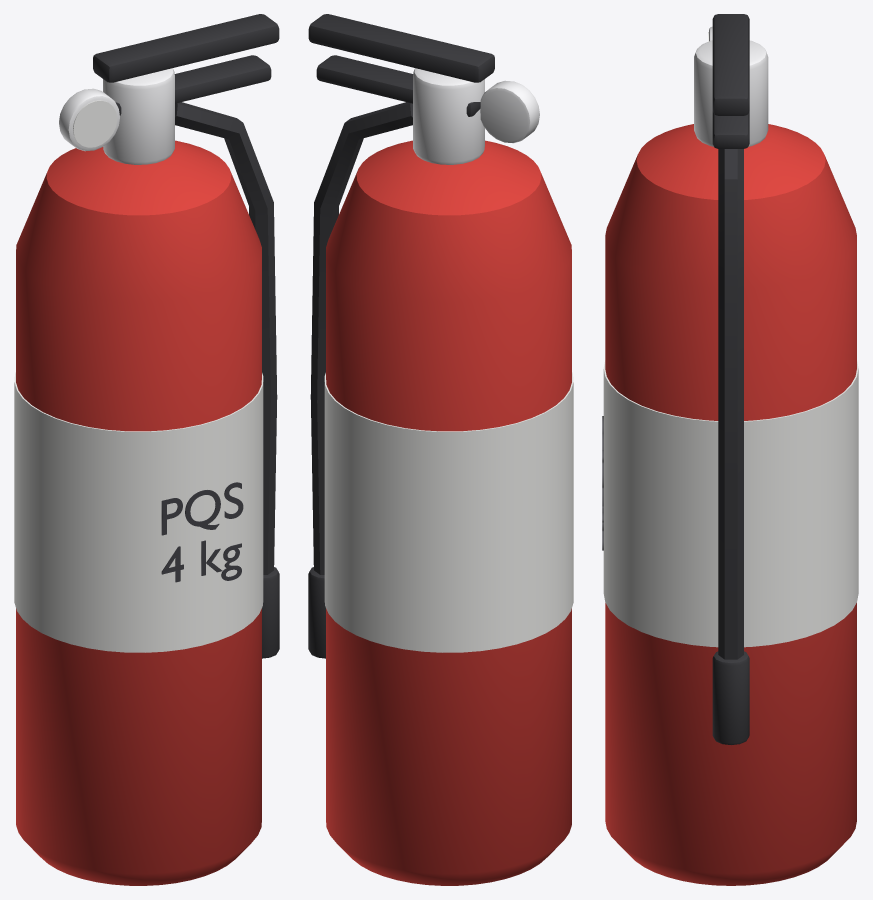
The model's file is HID-INC-005.glb.
The picture shows the model from 3 angles, left to right: view 1: azimuth 30°, elevation 25°; view 2: azimuth 150°, elevation 25°; view 3: azimuth 270°, elevation 25°; orthographic projection. The views are drawn at different scales.
Visible parts, largest first — view 1: HID-INC-005_cilindro, HID-INC-005_rotulo, HID-INC-005_mangueira, HID-INC-005_gatilho, HID-INC-005_valvula, HID-INC-005_alca, HID-INC-005_texto, HID-INC-005_mostrador, HID-INC-005_bico, HID-INC-005_manometro; view 2: HID-INC-005_cilindro, HID-INC-005_rotulo, HID-INC-005_mangueira, HID-INC-005_gatilho, HID-INC-005_valvula, HID-INC-005_alca, HID-INC-005_manometro, HID-INC-005_bico; view 3: HID-INC-005_cilindro, HID-INC-005_rotulo, HID-INC-005_mangueira, HID-INC-005_gatilho, HID-INC-005_valvula, HID-INC-005_bico, HID-INC-005_alca.
Boxes of the visible parts, x1,y1,x2,y2 form: HID-INC-005_cilindro: (16,140,261,885); HID-INC-005_rotulo: (14,372,263,652); HID-INC-005_mangueira: (175,102,277,574); HID-INC-005_gatilho: (93,14,279,82); HID-INC-005_valvula: (103,68,174,164); HID-INC-005_alca: (115,55,271,115); HID-INC-005_texto: (161,482,243,582); HID-INC-005_mostrador: (73,100,117,147); HID-INC-005_bico: (262,567,279,658); HID-INC-005_manometro: (59,88,119,151); HID-INC-005_cilindro: (326,140,571,885); HID-INC-005_rotulo: (324,372,573,652); HID-INC-005_mangueira: (310,102,412,574); HID-INC-005_gatilho: (308,14,494,82); HID-INC-005_valvula: (413,68,484,164); HID-INC-005_alca: (316,55,480,116); HID-INC-005_manometro: (480,80,539,143); HID-INC-005_bico: (308,567,325,658); HID-INC-005_cilindro: (605,124,856,885); HID-INC-005_rotulo: (603,360,858,647); HID-INC-005_mangueira: (718,149,743,659); HID-INC-005_gatilho: (712,14,749,115); HID-INC-005_valvula: (694,40,768,146); HID-INC-005_bico: (712,651,749,744); HID-INC-005_alca: (712,111,749,148).
Size of the model in its own units: 0.1568 by 0.482 by 0.1383.
